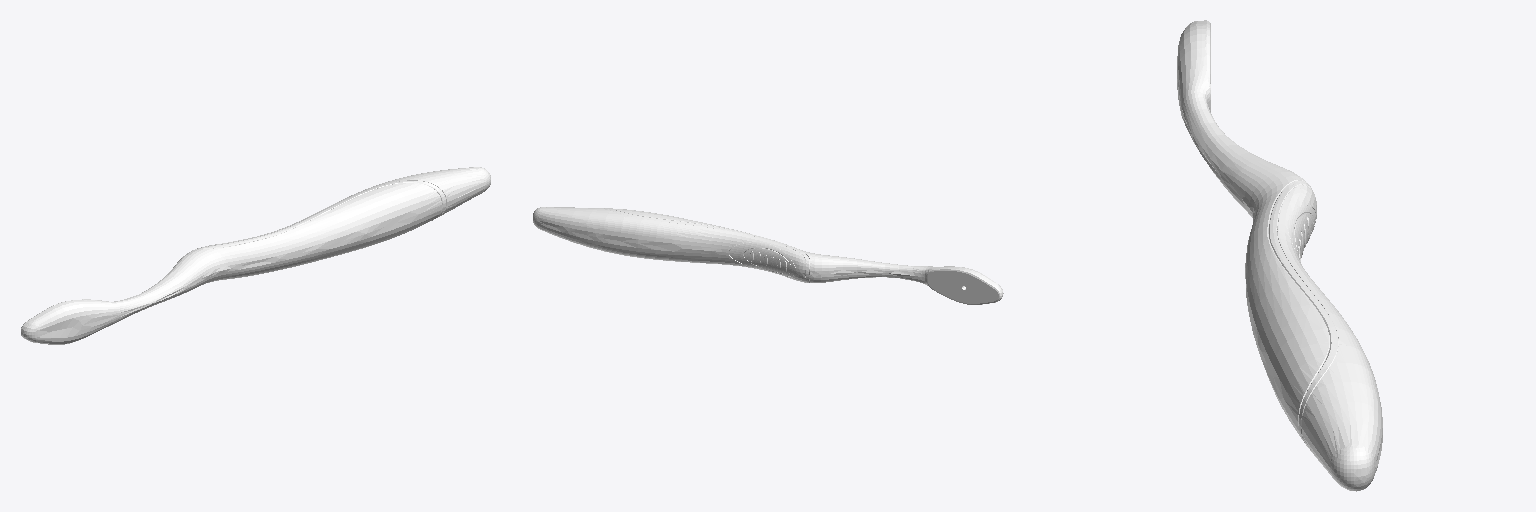
The robot description file, URDF, robot "toothbrush1":
<robot
  name="toothbrush1">
  <link
    name="toothbrush1">
    <inertial>
      <origin
        xyz="0.15166 0.028037 -6.10420000001717E-07"
        rpy="0 0 0" />
      <mass
        value="0.045735" />
      <inertia
        ixx="6.37296707997807E-06"
        ixy="2.56997356405238E-05"
        ixz="-4.81538427406079E-10"
        iyy="0.000157679614513321"
        iyz="3.91229408760083E-10"
        izz="0.000162044599670965" />
    </inertial>
    <visual>
      <origin
        xyz="0 0 0"
        rpy="0 0 0" />
      <geometry>
        <mesh
          filename="package://toothbrush1/meshes/toothbrush1.dae" />
      </geometry>
      <material
        name="">
        <color
          rgba="1 1 1 1" />
      </material>
    </visual>
    <collision>
      <origin
        xyz="0 0 0"
        rpy="0 0 0" />
      <geometry>
        <mesh
          filename="package://toothbrush1/meshes/toothbrush1.dae" />
      </geometry>
    </collision>
  </link>
</robot>

--- Facts derived from the render (not from the file) ---
3 views of the same robot in one strip: view 1: azimuth 30°, elevation 25°; view 2: azimuth 150°, elevation 25°; view 3: azimuth 270°, elevation 25° (orthographic).
Model toothbrush1 with 1 links and 0 joints (none), rooted at toothbrush1, posed all joints at 0.
Links seen in each view (by area): view 1: toothbrush1; view 2: toothbrush1; view 3: toothbrush1.
Link boxes in pixels (x1=…): toothbrush1: x1=21, y1=167, x2=490, y2=344; toothbrush1: x1=533, y1=207, x2=1003, y2=304; toothbrush1: x1=1177, y1=20, x2=1382, y2=491.
Bounding box of the posed robot: 0.2437 × 0.0476 × 0.022 m (x, y, z).
1 mesh visuals loaded from 1 distinct referenced files (1 Collada DAE).